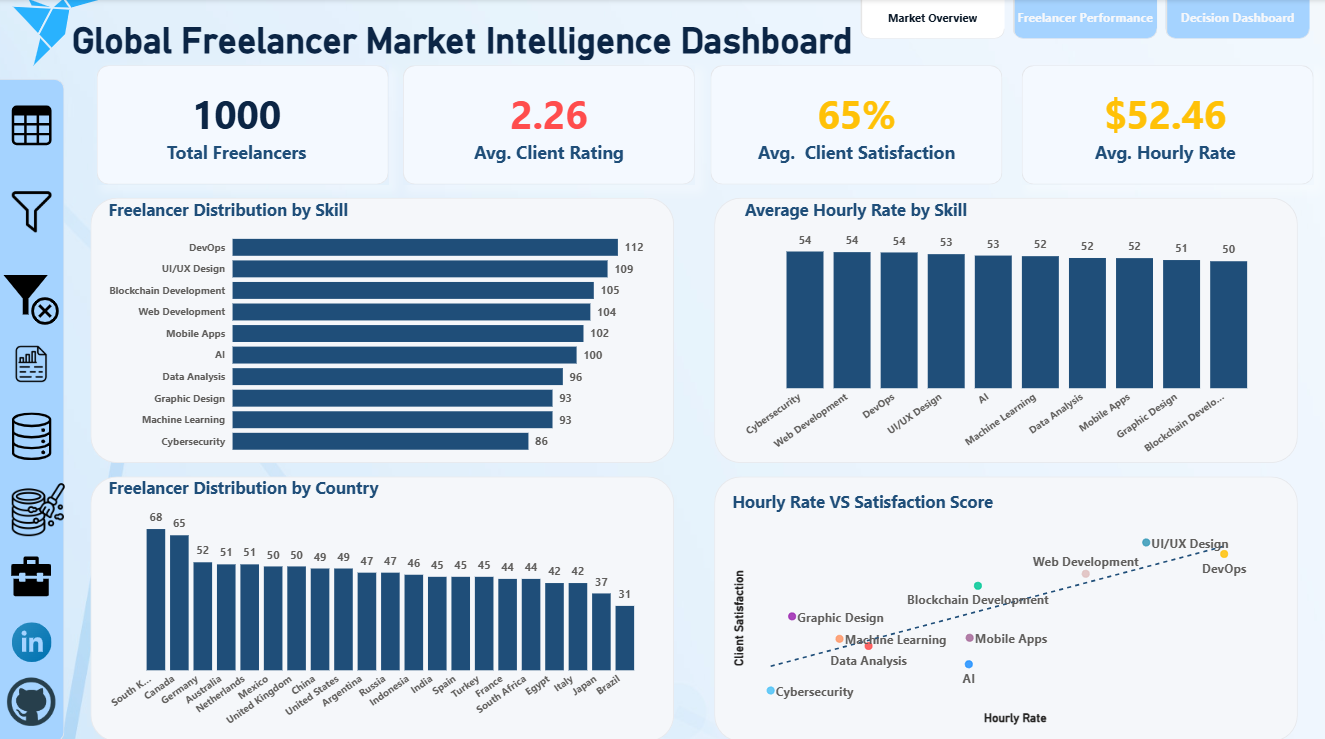

This screenshot's page, from the dashboard's own definition file:
{"tool":"powerbi","page":{"name":"Market Overview","canvas":[1600,900],"ordinal":0},"visuals":[{"type":"textbox","title":"Global Freelancer Market Intelligence Dashboard","box":[85.2,25.3,976,48],"z":0,"group":"g1"},{"type":"shape","box":[864,240,704,320],"z":0},{"type":"shape","box":[0,96,80,800],"z":1000},{"type":"shape","box":[119.3,80,352,144],"z":2000},{"type":"image","box":[16,224,48,64],"z":3000},{"type":"image","box":[17,736,48,80],"z":4000},{"type":"group","id":"g1","title":"Group 5","box":[85.2,25.3,976,48],"z":5000},{"type":"image","box":[17,480,48,96],"z":6000},{"type":"image","box":[0,816,80,64],"z":7000},{"type":"image","box":[0,0,144,80],"z":8000},{"type":"image","box":[17,96,48,112],"z":9000},{"type":"image","box":[16,576,64,80],"z":10000},{"type":"shape","box":[112,240,704,320],"z":11000},{"type":"image","box":[0,672,80,48],"z":12000},{"type":"shape","box":[488.8,80,352,144],"z":13000},{"type":"shape","box":[860,80,352,144],"z":14000},{"type":"shape","box":[1234.6,80,352,144],"z":15000},{"type":"shape","box":[864,576,704,320],"z":16000},{"type":"shape","box":[112,576,704,320],"z":17000},{"type":"card","fields":{"Values":["global_freelancers.Total Freelancers"]},"box":[160,80,256,144],"z":18000},{"type":"card","fields":{"Values":["global_freelancers.Average Client Rating"]},"box":[536.8,80,256,144],"z":19000},{"type":"card","fields":{"Values":["global_freelancers.Average Satisfaction Score"]},"box":[908,80,256,144],"z":20000},{"type":"card","fields":{"Values":["global_freelancers.Average Hourly Rate"]},"box":[1280,80,256,144],"z":21000},{"type":"barChart","title":"Freelancer Distribution by Skill","fields":{"Category":["global_freelancers.primary_skill"],"Y":["global_freelancers.Total Freelancers"]},"box":[128,240,656,320],"z":22000},{"type":"columnChart","title":"Freelancer Distribution by Country","fields":{"Category":["global_freelancers.country"],"Y":["global_freelancers.Total Freelancers"]},"box":[128,576,656,320],"z":23000},{"type":"pageNavigator","box":[1040,0,544,48],"z":24000},{"type":"columnChart","title":"Average Hourly Rate by Skill","fields":{"Y":["global_freelancers.Average Hourly Rate"],"Category":["global_freelancers.primary_skill"]},"box":[896,240,640,320],"z":25000},{"type":"scatterChart","title":"Hourly Rate VS Satisfaction Score","fields":{"X":["Sum(global_freelancers.hourly_rate_USD)"],"Y":["Sum(global_freelancers.client_satisfaction)"],"Category":["global_freelancers.primary_skill"],"Series":["global_freelancers.primary_skill"]},"box":[880,592,672,288],"z":26000},{"type":"image","box":[0,320,80,80],"z":28000},{"type":"image","box":[0,416,80,48],"z":31000}]}

Visuals, with their boxes in screenshot pixels (x1, y1, x2, y2), scaled from the page's 1600x900 canvas onto the 1325x739 screenshot:
"Global Freelancer Market Intelligence Dashboard" textbox: Rect(71, 21, 879, 60)
shape: Rect(716, 197, 1298, 460)
shape: Rect(0, 79, 66, 736)
shape: Rect(99, 66, 390, 184)
image: Rect(13, 184, 53, 236)
image: Rect(14, 604, 54, 670)
"Group 5" group: Rect(71, 21, 879, 60)
image: Rect(14, 394, 54, 473)
image: Rect(0, 670, 66, 723)
image: Rect(0, 0, 119, 66)
image: Rect(14, 79, 54, 171)
image: Rect(13, 473, 66, 539)
shape: Rect(93, 197, 676, 460)
image: Rect(0, 552, 66, 591)
shape: Rect(405, 66, 696, 184)
shape: Rect(712, 66, 1004, 184)
shape: Rect(1022, 66, 1314, 184)
shape: Rect(716, 473, 1298, 736)
shape: Rect(93, 473, 676, 736)
card - global_freelancers.Total Freelancers: Rect(132, 66, 344, 184)
card - global_freelancers.Average Client Rating: Rect(445, 66, 657, 184)
card - global_freelancers.Average Satisfaction Score: Rect(752, 66, 964, 184)
card - global_freelancers.Average Hourly Rate: Rect(1060, 66, 1272, 184)
"Freelancer Distribution by Skill" barChart: Rect(106, 197, 649, 460)
"Freelancer Distribution by Country" columnChart: Rect(106, 473, 649, 736)
pageNavigator: Rect(861, 0, 1312, 39)
"Average Hourly Rate by Skill" columnChart: Rect(742, 197, 1272, 460)
"Hourly Rate VS Satisfaction Score" scatterChart: Rect(729, 486, 1285, 723)
image: Rect(0, 263, 66, 328)
image: Rect(0, 342, 66, 381)
